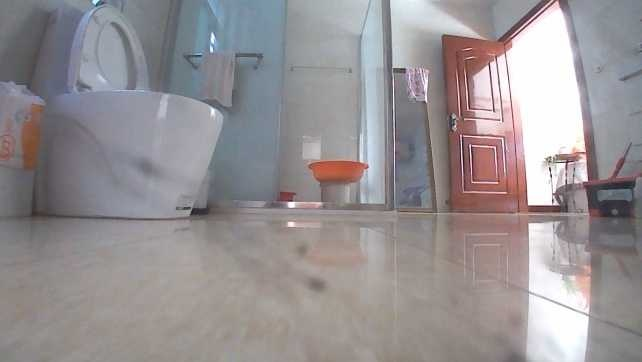toilet: (30, 2, 227, 219)
